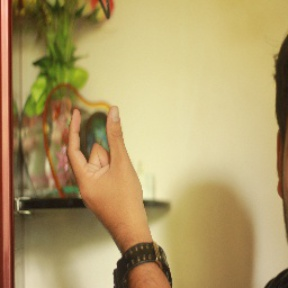U: (59, 101, 147, 226)
